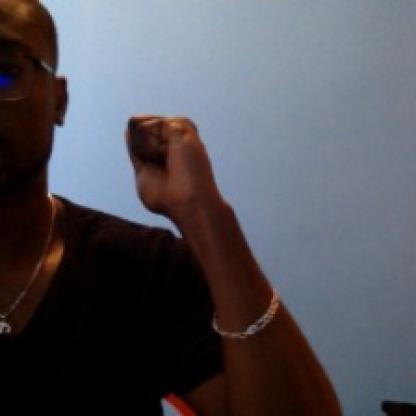BACKWARD: (104, 85, 246, 265)
